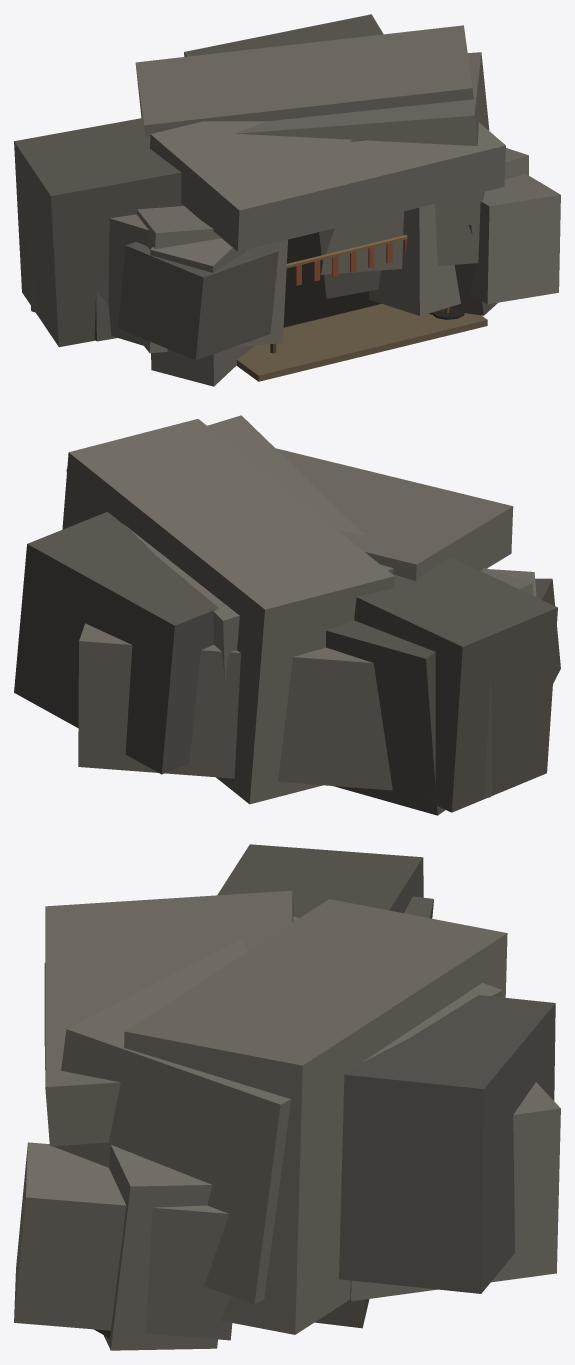
File: C_CaveRack.glb
3 views of the same model, one above another, from view 1: azimuth 30°, elevation 25°; view 2: azimuth 150°, elevation 25°; view 3: azimuth 270°, elevation 25° (orthographic). The views are drawn at different scales.
Parts seen in each view (by area): view 1: C_CaveRack_Structure, C_CaveRack_Foundation, C_CaveRack_Openings, C_CaveRack_Props, C_CaveRack_Fixtures; view 2: C_CaveRack_Structure; view 3: C_CaveRack_Structure.
Boxes of the visible parts, x1,y1,x2,y2 form: C_CaveRack_Structure: [14, 14, 560, 386]; C_CaveRack_Foundation: [236, 304, 487, 381]; C_CaveRack_Openings: [283, 232, 381, 327]; C_CaveRack_Props: [295, 239, 464, 319]; C_CaveRack_Fixtures: [270, 235, 434, 353]; C_CaveRack_Structure: [14, 415, 560, 815]; C_CaveRack_Structure: [14, 844, 560, 1350].
Size of the model in its own units: 12.15 by 5.67 by 9.23.
